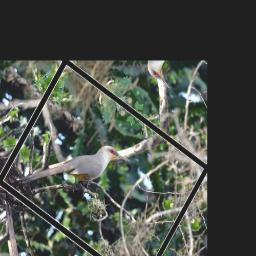Cuckoo: (15, 103, 132, 238)
